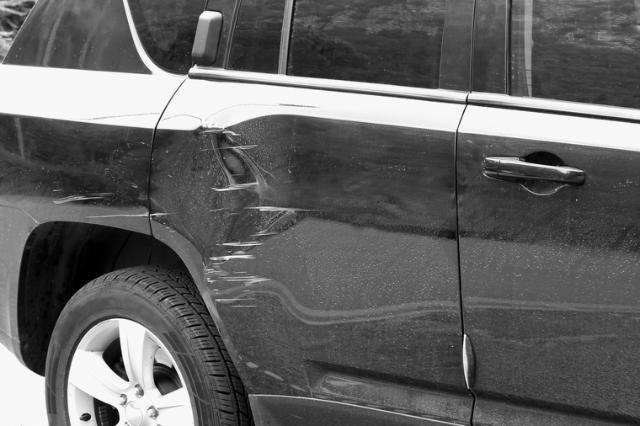Door: (166, 74, 640, 426)
Fender: (0, 79, 161, 242)
